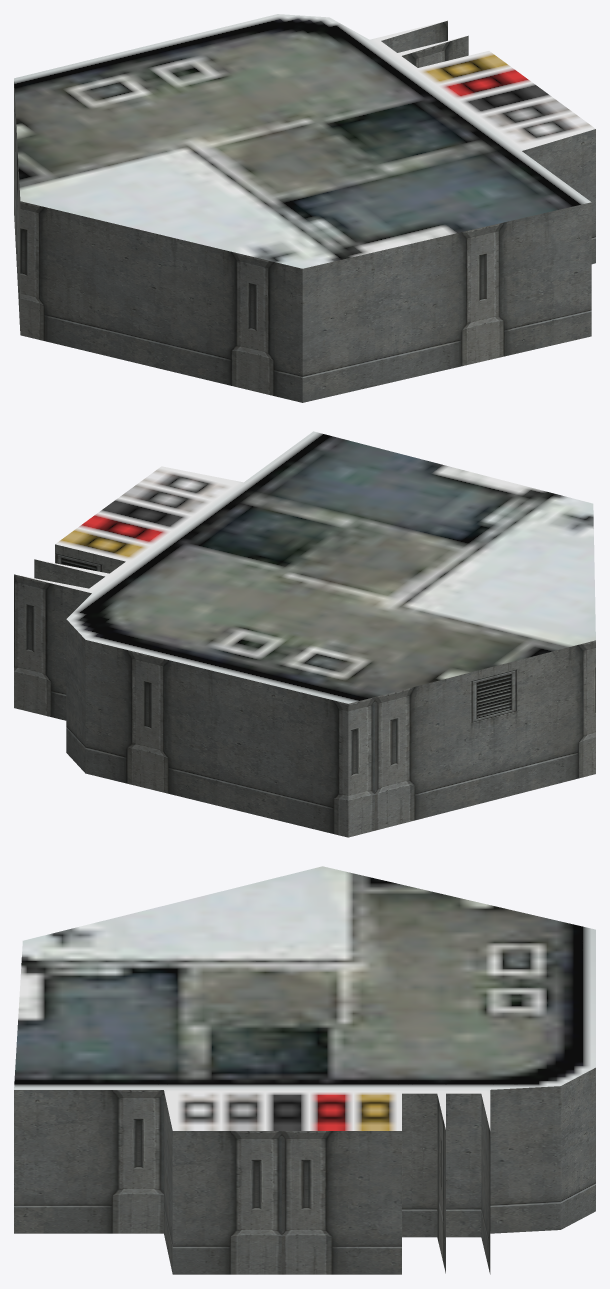
The model's file is BuildingSystem-03-Advance-04-ReinforcedLow-P-109-03.glb.
The picture shows the model from 3 angles, top to bottom: view 1: azimuth 30°, elevation 25°; view 2: azimuth 150°, elevation 25°; view 3: azimuth 270°, elevation 25°; orthographic projection. The views are drawn at different scales.
Visible parts, largest first — view 1: buildings/saxarba/SMV_Buildings/BuildingSystem-03-Advance-04; view 2: buildings/saxarba/SMV_Buildings/BuildingSystem-03-Advance-04; view 3: buildings/saxarba/SMV_Buildings/BuildingSystem-03-Advance-04.
Part boxes in pixels (<box>): buildings/saxarba/SMV_Buildings/BuildingSystem-03-Advance-04: <box>14,14,595,402</box>; buildings/saxarba/SMV_Buildings/BuildingSystem-03-Advance-04: <box>14,431,595,837</box>; buildings/saxarba/SMV_Buildings/BuildingSystem-03-Advance-04: <box>14,866,595,1274</box>.
Size of the model in its own units: 71 by 18 by 66.
